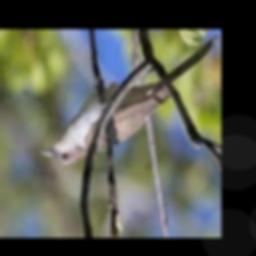Cuckoo: (41, 37, 218, 166)
